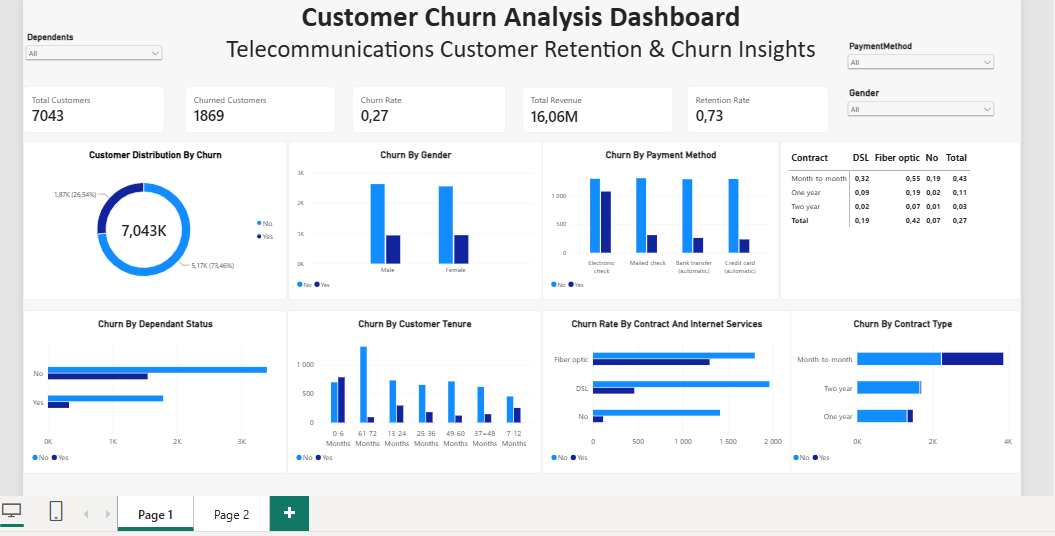

The page's visual inventory and layout, read from the dashboard file:
{"tool":"powerbi","page":{"name":"Page 1","canvas":[1920,1080],"ordinal":0},"visuals":[{"type":"cardVisual","title":"Total Customers","fields":{"Data":["Telco_Customer_Churn_Dataset  (2).Total Customers"]},"box":[0,169.2,273.1,90.4],"z":0},{"type":"cardVisual","fields":{"Data":["Telco_Customer_Churn_Dataset  (2).Churned Customers"]},"box":[311.5,169.2,290.4,90.4],"z":1},{"type":"cardVisual","fields":{"Data":["Telco_Customer_Churn_Dataset  (2).Churn Rate"]},"box":[632.7,169.2,296.2,90.4],"z":2},{"type":"cardVisual","fields":{"Data":["Telco_Customer_Churn_Dataset  (2).Retention Rate"]},"box":[1276.9,169.2,273.1,90.4],"z":4},{"type":"cardVisual","fields":{"Data":["Telco_Customer_Churn_Dataset  (2).Total Revenue"]},"box":[959.6,171.2,290.4,88.5],"z":7},{"type":"donutChart","title":"Customer Distribution By Churn","fields":{"Category":["Telco_Customer_Churn_Dataset  (2).Churn"],"Y":["CountNonNull(Telco_Customer_Churn_Dataset  (2).customerID)"]},"box":[0,275,507.7,305.8],"z":8},{"type":"clusteredColumnChart","title":"Churn By Gender","fields":{"Category":["Telco_Customer_Churn_Dataset  (2).gender"],"Y":["CountNonNull(Telco_Customer_Churn_Dataset  (2).customerID)"],"Series":["Telco_Customer_Churn_Dataset  (2).Churn"]},"box":[509.6,275,490.4,305.8],"z":9},{"type":"clusteredBarChart","title":"Churn By Dependant Status","fields":{"Category":["Telco_Customer_Churn_Dataset  (2).Dependents"],"Y":["CountNonNull(Telco_Customer_Churn_Dataset  (2).customerID)"],"Series":["Telco_Customer_Churn_Dataset  (2).Churn"]},"box":[0,600,507.7,315.4],"z":11},{"type":"clusteredColumnChart","title":"Churn By Customer Tenure","fields":{"Category":["Telco_Customer_Churn_Dataset  (2).Tenure Group"],"Y":["CountNonNull(Telco_Customer_Churn_Dataset  (2).customerID)"],"Series":["Telco_Customer_Churn_Dataset  (2).Churn"]},"box":[507.7,600,490.4,315.4],"z":12},{"type":"barChart","title":"Churn By Contract Type","fields":{"Category":["Telco_Customer_Churn_Dataset  (2).Contract"],"Y":["CountNonNull(Telco_Customer_Churn_Dataset  (2).customerID)"],"Series":["Telco_Customer_Churn_Dataset  (2).Churn"]},"box":[1463.5,600,455.8,315.4],"z":13},{"type":"clusteredColumnChart","title":"Churn By Payment Method","fields":{"Category":["Telco_Customer_Churn_Dataset  (2).PaymentMethod"],"Y":["CountNonNull(Telco_Customer_Churn_Dataset  (2).customerID)"],"Series":["Telco_Customer_Churn_Dataset  (2).Churn"]},"box":[998.1,275,455.8,305.8],"z":15},{"type":"clusteredBarChart","title":"Churn Rate By Contract And Internet Services","fields":{"Category":["Telco_Customer_Churn_Dataset  (2).InternetService"],"Y":["CountNonNull(Telco_Customer_Churn_Dataset  (2).customerID)"],"Series":["Telco_Customer_Churn_Dataset  (2).Churn"]},"box":[998.1,600,478.8,315.4],"z":16},{"type":"pivotTable","fields":{"Rows":["Telco_Customer_Churn_Dataset  (2).Contract"],"Columns":["Telco_Customer_Churn_Dataset  (2).InternetService"],"Values":["Telco_Customer_Churn_Dataset  (2).Churn Rate"]},"box":[1455.8,275,463.5,305.8],"z":17},{"type":"textbox","box":[334.6,0,1246.2,128.8],"z":18},{"type":"slicer","fields":{"Values":["Telco_Customer_Churn_Dataset  (2).gender"]},"box":[1580.8,171.2,292.3,88.5],"z":19},{"type":"slicer","fields":{"Values":["Telco_Customer_Churn_Dataset  (2).Dependents"]},"box":[0,65.4,273.1,82.7],"z":20},{"type":"slicer","fields":{"Values":["Telco_Customer_Churn_Dataset  (2).PaymentMethod"]},"box":[1580.8,82.7,292.3,78.8],"z":21}]}

Visuals, with their boxes on the page's 1920x1080 design canvas (x1, y1, x2, y2). These are canvas units, not pixel positions in the 1055x536 screenshot, which may show the page scaled, cropped or inside an application window:
"Total Customers" cardVisual: Rect(0, 169, 273, 260)
cardVisual - Telco_Customer_Churn_Dataset  (2).Churned Customers: Rect(312, 169, 602, 260)
cardVisual - Telco_Customer_Churn_Dataset  (2).Churn Rate: Rect(633, 169, 929, 260)
cardVisual - Telco_Customer_Churn_Dataset  (2).Retention Rate: Rect(1277, 169, 1550, 260)
cardVisual - Telco_Customer_Churn_Dataset  (2).Total Revenue: Rect(960, 171, 1250, 260)
"Customer Distribution By Churn" donutChart: Rect(0, 275, 508, 581)
"Churn By Gender" clusteredColumnChart: Rect(510, 275, 1000, 581)
"Churn By Dependant Status" clusteredBarChart: Rect(0, 600, 508, 915)
"Churn By Customer Tenure" clusteredColumnChart: Rect(508, 600, 998, 915)
"Churn By Contract Type" barChart: Rect(1464, 600, 1919, 915)
"Churn By Payment Method" clusteredColumnChart: Rect(998, 275, 1454, 581)
"Churn Rate By Contract And Internet Services" clusteredBarChart: Rect(998, 600, 1477, 915)
pivotTable - Telco_Customer_Churn_Dataset  (2).Contract x Telco_Customer_Churn_Dataset  (2).InternetService: Rect(1456, 275, 1919, 581)
textbox: Rect(335, 0, 1581, 129)
slicer - Telco_Customer_Churn_Dataset  (2).gender: Rect(1581, 171, 1873, 260)
slicer - Telco_Customer_Churn_Dataset  (2).Dependents: Rect(0, 65, 273, 148)
slicer - Telco_Customer_Churn_Dataset  (2).PaymentMethod: Rect(1581, 83, 1873, 162)
